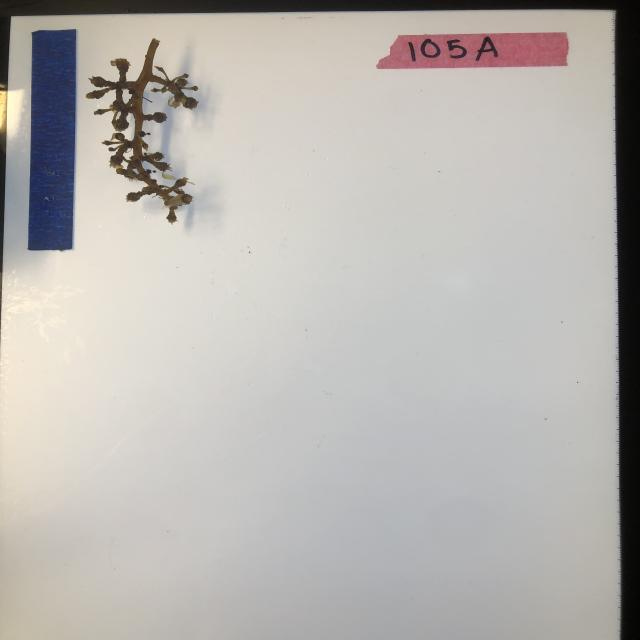index: (375, 32, 570, 71)
measure_label: (28, 28, 75, 252)
rachis_cluster: (86, 37, 205, 224)
